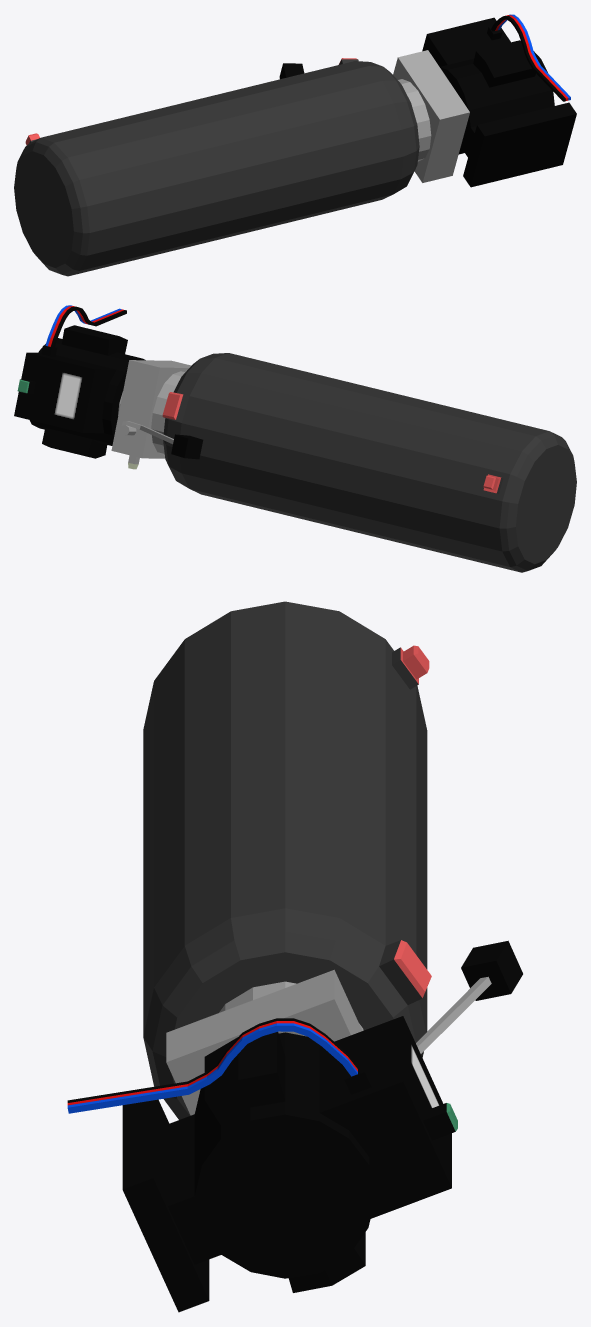
Rendered from Hydraulics.fbx.
3 views of the same model, one above another, from view 1: azimuth 30°, elevation 25°; view 2: azimuth 150°, elevation 25°; view 3: azimuth 270°, elevation 25° (orthographic). The views are drawn at different scales.
Visible parts, largest first — view 1: Cylinder.001; view 2: Cylinder.001; view 3: Cylinder.001.
Part boxes in pixels (x1,y1,x2,y2): Cylinder.001: (14, 14, 576, 276); Cylinder.001: (14, 305, 576, 572); Cylinder.001: (67, 601, 522, 1312).
Size of the model in its own units: 1.76 by 0.4863 by 0.7061.
